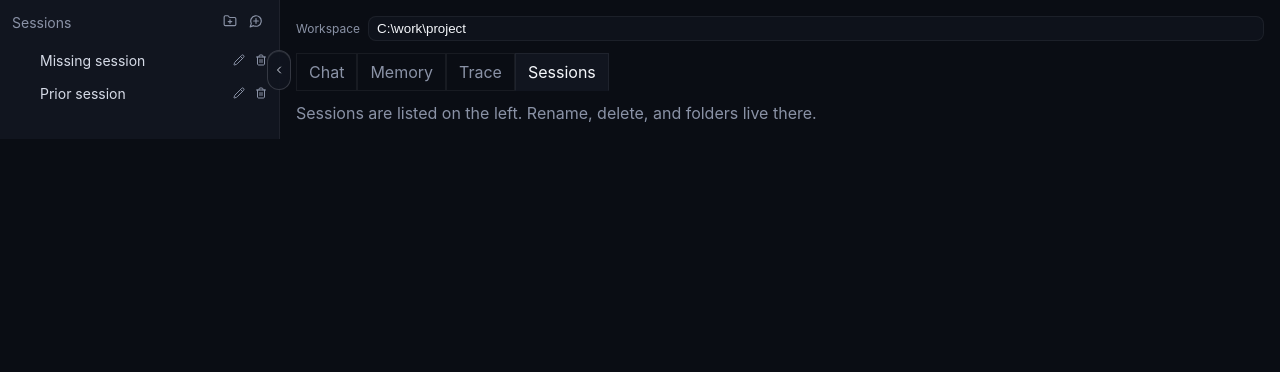
Test case: CodingPage › unknown resume id shows a typed error and an empty transcript
Click the list item with test id "tree-row-chat-missing-1" at (93, 60), box [40, 48, 271, 73]
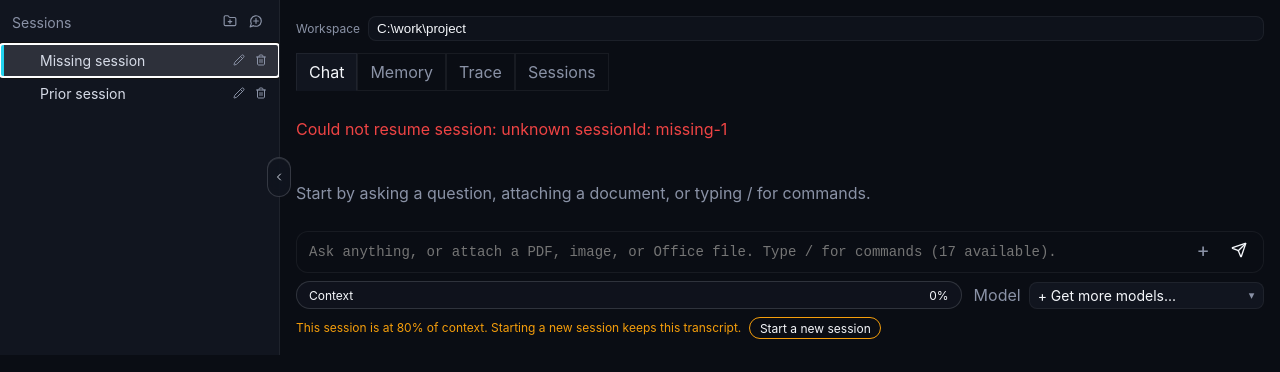
Check: the message with test id "coding-error" shows "Could not resume session", box [296, 119, 727, 139]
Check: the element with test id "coding-chat" shows "Start by asking a question", box [296, 183, 870, 203]
